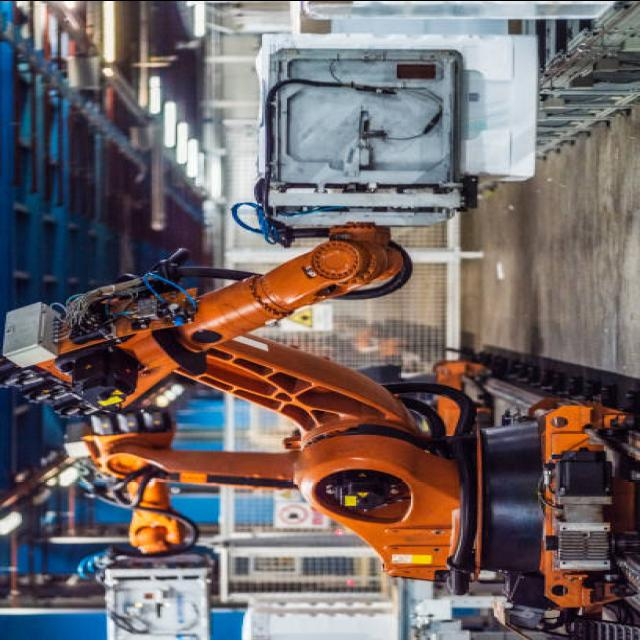Robotic-arm: (1, 216, 514, 590), (68, 429, 328, 559)
